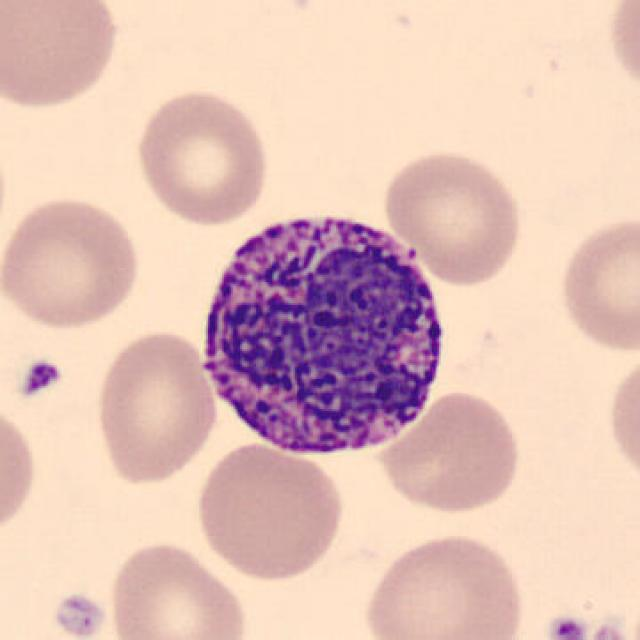Basophil: (190, 196, 460, 467)
Platelets: (50, 589, 108, 638), (16, 356, 66, 400), (542, 612, 590, 640), (592, 614, 626, 640)
RBC: (190, 439, 348, 584), (379, 144, 526, 288), (90, 326, 220, 488), (130, 84, 274, 228), (0, 192, 146, 333), (375, 386, 525, 517), (359, 527, 530, 640), (103, 537, 250, 640), (0, 0, 124, 113), (555, 212, 638, 356), (0, 395, 41, 548), (602, 349, 640, 493), (604, 0, 639, 102)
